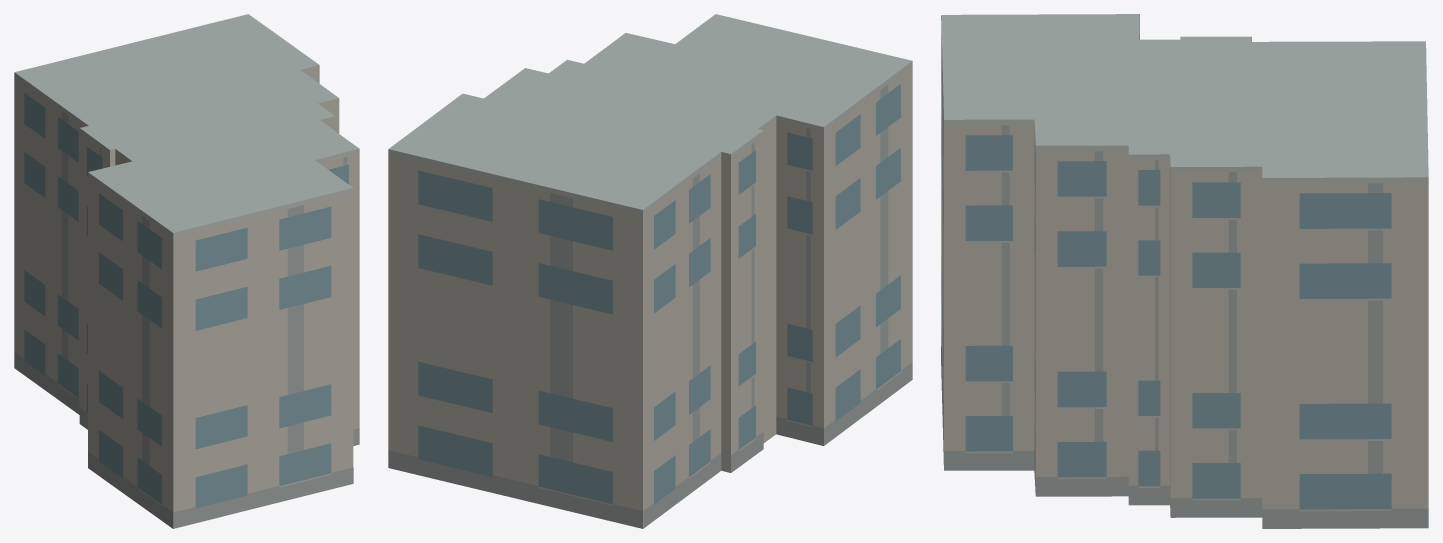
The model's file is survey-upis-32976926.glb.
3 views of the same model, side by side, from view 1: azimuth 30°, elevation 25°; view 2: azimuth 150°, elevation 25°; view 3: azimuth 270°, elevation 25° (orthographic). The views are drawn at different scales.
Visible parts, largest first — view 1: survey-upis-32976926.tmp; view 2: survey-upis-32976926.tmp; view 3: survey-upis-32976926.tmp.
Boxes of the visible parts, x1,y1,x2,y2 form: survey-upis-32976926.tmp: (14,14,359,528); survey-upis-32976926.tmp: (388,14,912,528); survey-upis-32976926.tmp: (941,14,1428,528).
Bounding box in the file's own units: 15.3 × 15.25 × 19.21.
